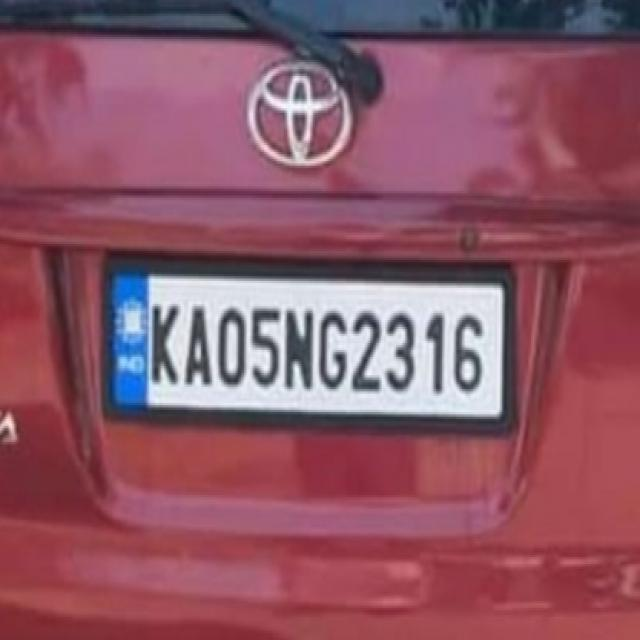0: (217, 302, 248, 393)
1: (423, 305, 448, 402)
3: (386, 308, 418, 399)
5: (248, 303, 282, 392)
6: (453, 303, 485, 398)
A: (184, 300, 213, 394)
G: (318, 305, 351, 396)
K: (150, 301, 180, 390)
N: (282, 296, 316, 394)
